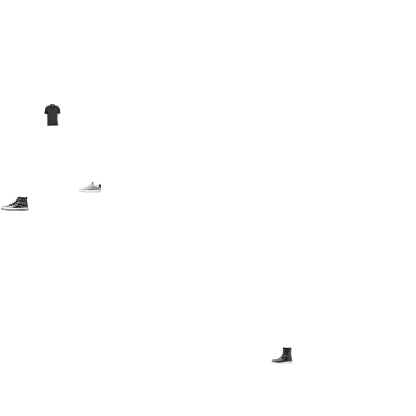Ankle_boot: (271, 344, 293, 366)
Sneaker: (1, 189, 29, 217), (79, 176, 101, 198)
T-shirt/top: (41, 104, 63, 126)
